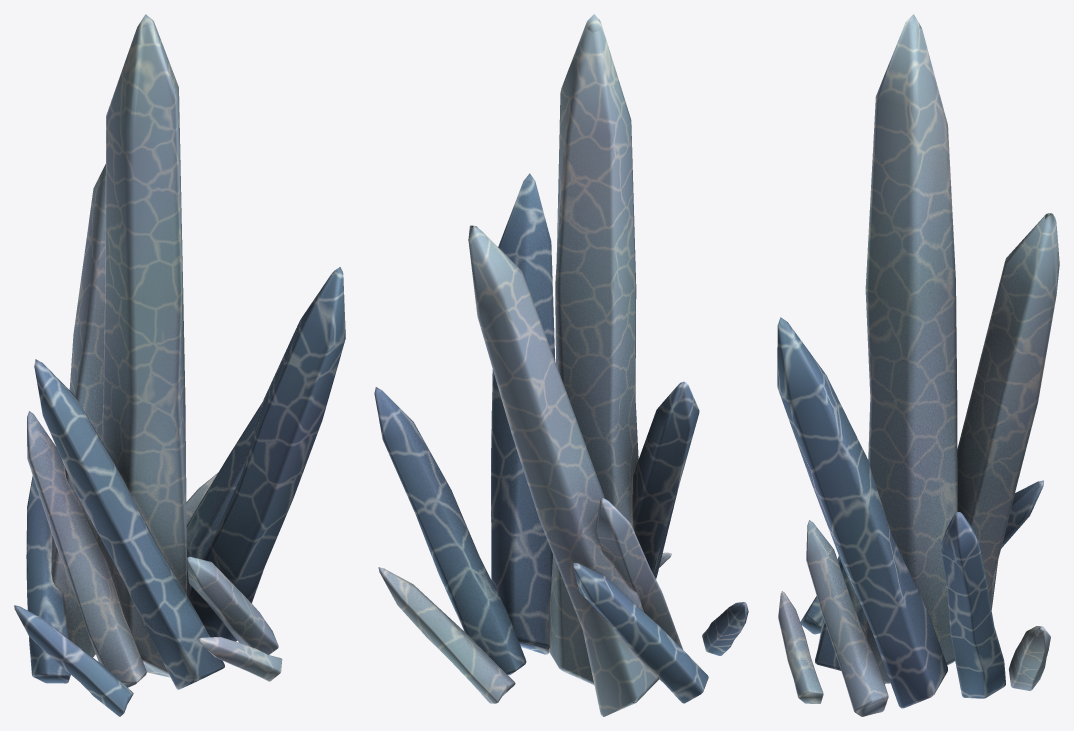
File: IceSpike.fbx
3 views of the same model, side by side, from view 1: azimuth 30°, elevation 25°; view 2: azimuth 150°, elevation 25°; view 3: azimuth 270°, elevation 25° (orthographic).
Visible parts, largest first — view 1: IceSpike; view 2: IceSpike; view 3: IceSpike.
Boxes of the visible parts, x1,y1,x2,y2 form: IceSpike: (14,14,345,716); IceSpike: (374,14,748,716); IceSpike: (777,14,1059,716).
Bounding box in the file's own units: 193 × 362 × 140.
